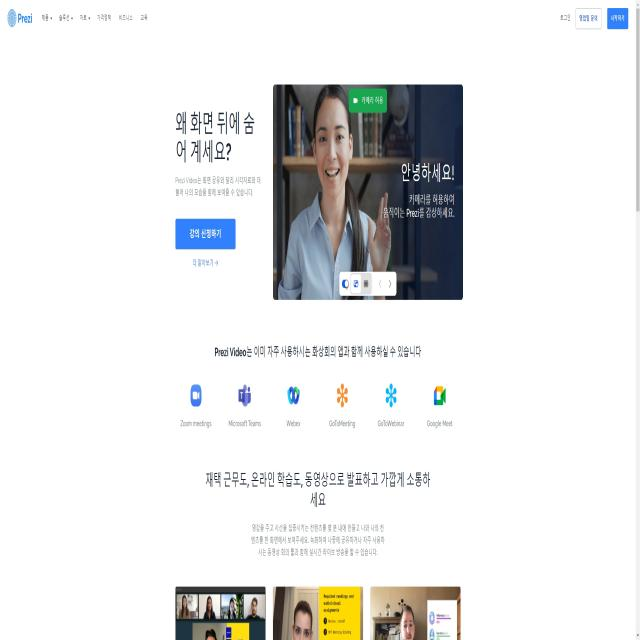menu-bar: (559, 1, 629, 34)
tab-bar: (38, 8, 151, 31)
